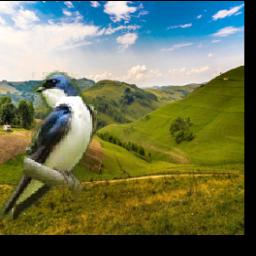Swallow: (0, 70, 98, 220)
